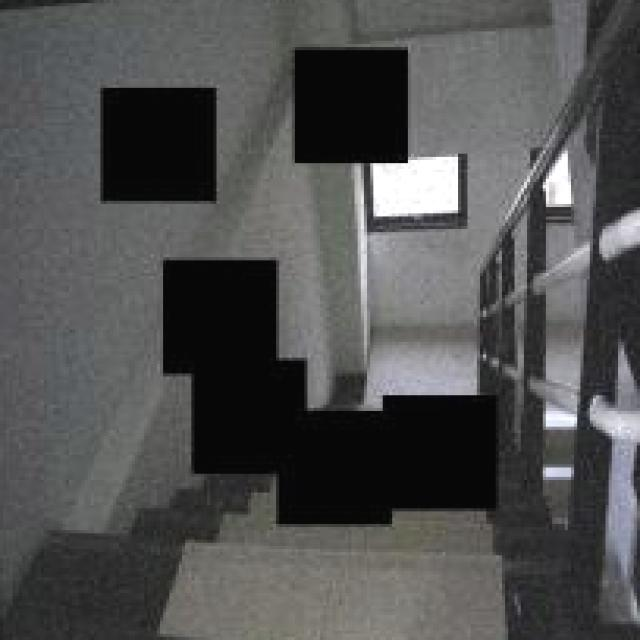downstair: (145, 503, 271, 640)
